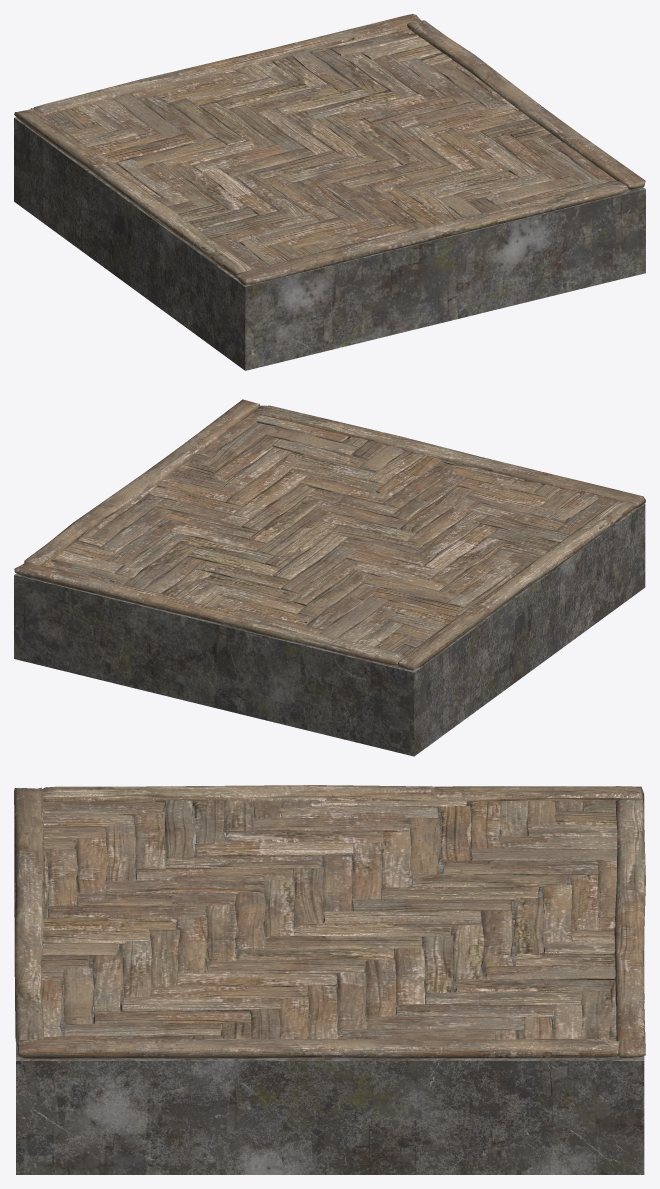
Rendered from SM_Herringbone_4M.fbx.
3 views of the same model, one above another, from view 1: azimuth 30°, elevation 25°; view 2: azimuth 150°, elevation 25°; view 3: azimuth 270°, elevation 25° (orthographic). The views are drawn at different scales.
Parts seen in each view (by area): view 1: SM_Herringbone_4M_LOD0; view 2: SM_Herringbone_4M_LOD0; view 3: SM_Herringbone_4M_LOD0.
Boxes of the visible parts, x1,y1,x2,y2 form: SM_Herringbone_4M_LOD0: (14, 14, 645, 370); SM_Herringbone_4M_LOD0: (14, 399, 645, 756); SM_Herringbone_4M_LOD0: (14, 785, 645, 1174).
Bounding box in the file's own units: 402 × 402 × 89.11.
